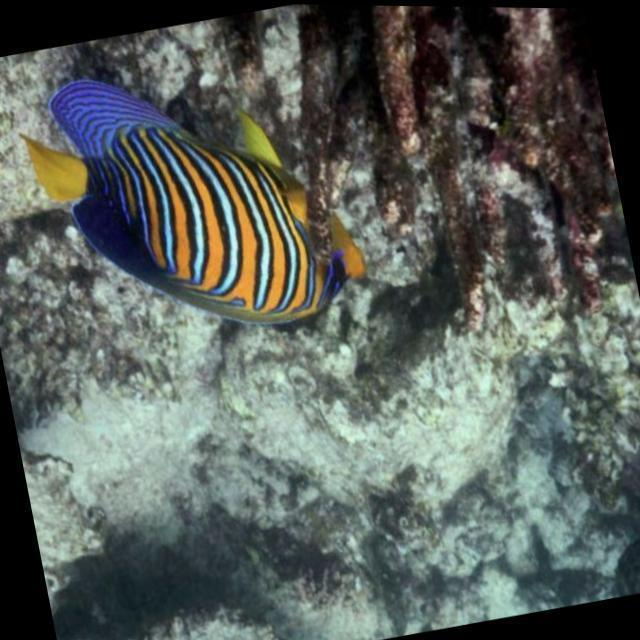Dead Coral: (382, 4, 615, 327)
